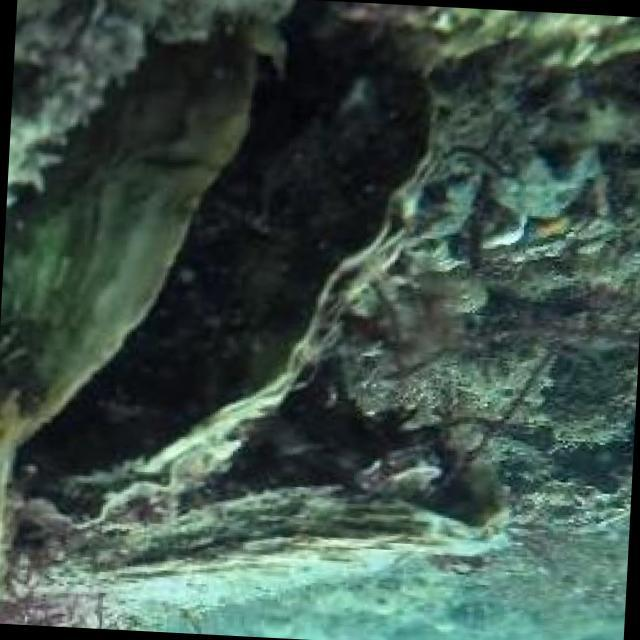Oyster- Indeterminate: (0, 0, 436, 524)
